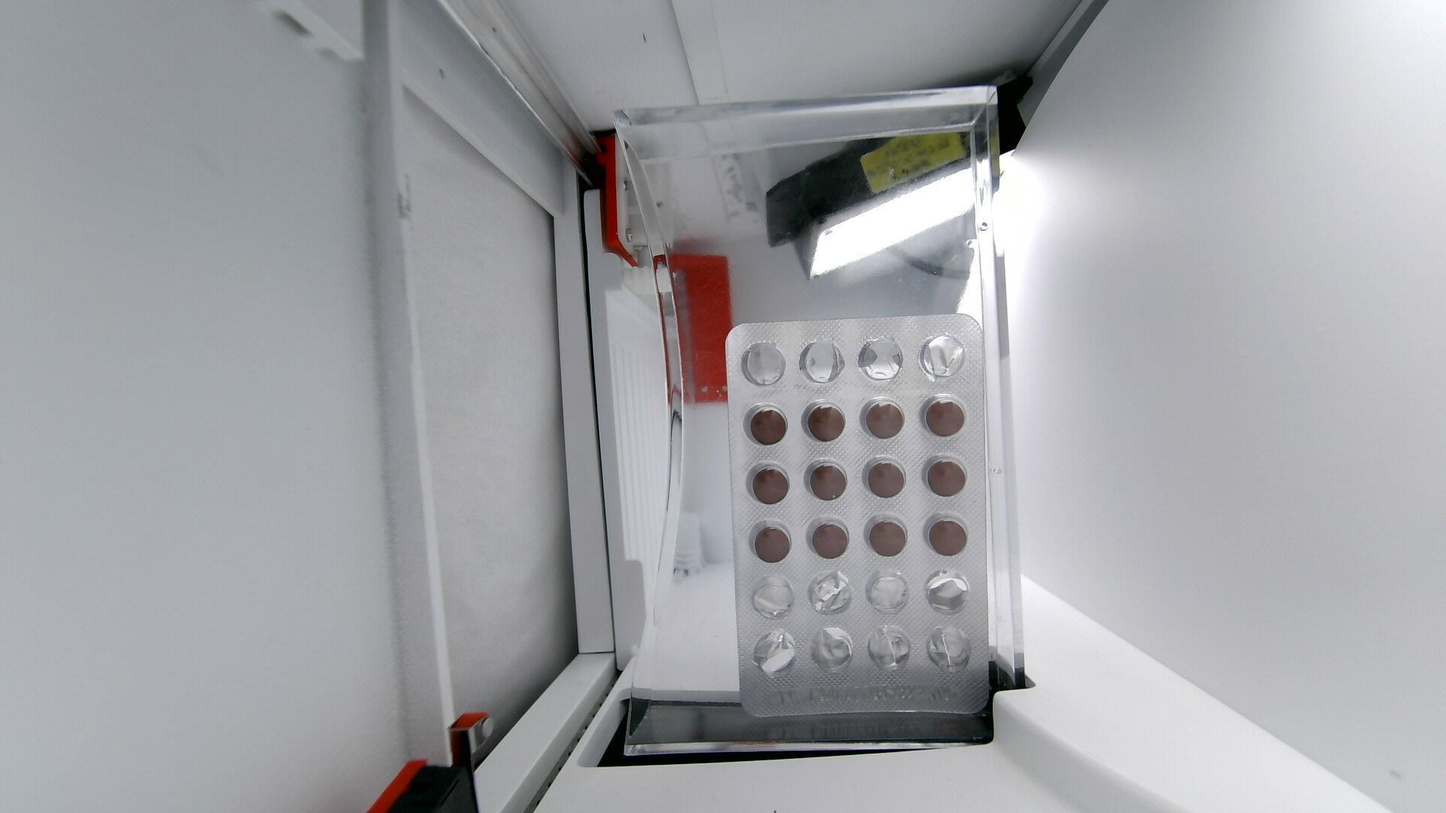Light Front: (727, 314, 990, 719)
No Pill Front: (925, 571, 972, 618), (920, 333, 966, 379), (811, 628, 856, 672), (808, 571, 854, 614), (799, 340, 844, 383), (868, 625, 910, 670), (754, 629, 795, 675), (752, 576, 795, 619), (926, 626, 970, 668), (741, 343, 786, 384), (857, 339, 901, 379), (866, 572, 908, 613)
Pill Front: (924, 513, 969, 556), (920, 394, 966, 436), (923, 455, 969, 497), (746, 463, 789, 504), (861, 398, 904, 438), (865, 516, 908, 556), (803, 400, 844, 440), (807, 462, 847, 501), (752, 522, 791, 562), (810, 521, 850, 558), (749, 406, 786, 444), (868, 461, 905, 498)
